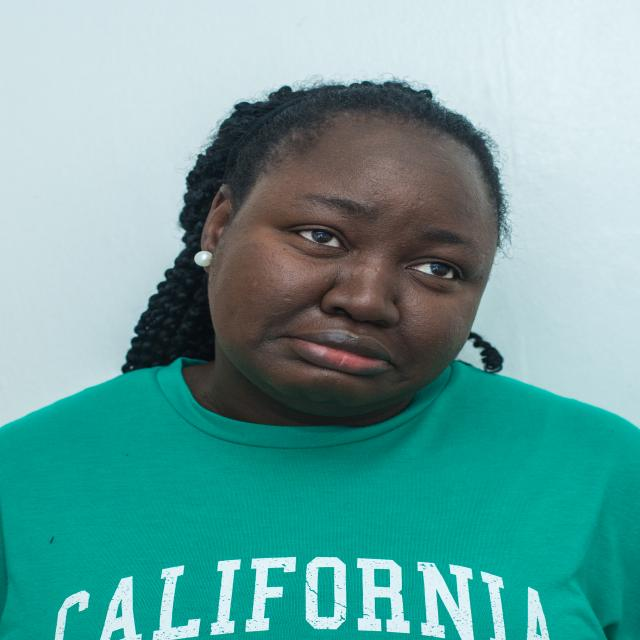sad: (193, 94, 512, 424)
